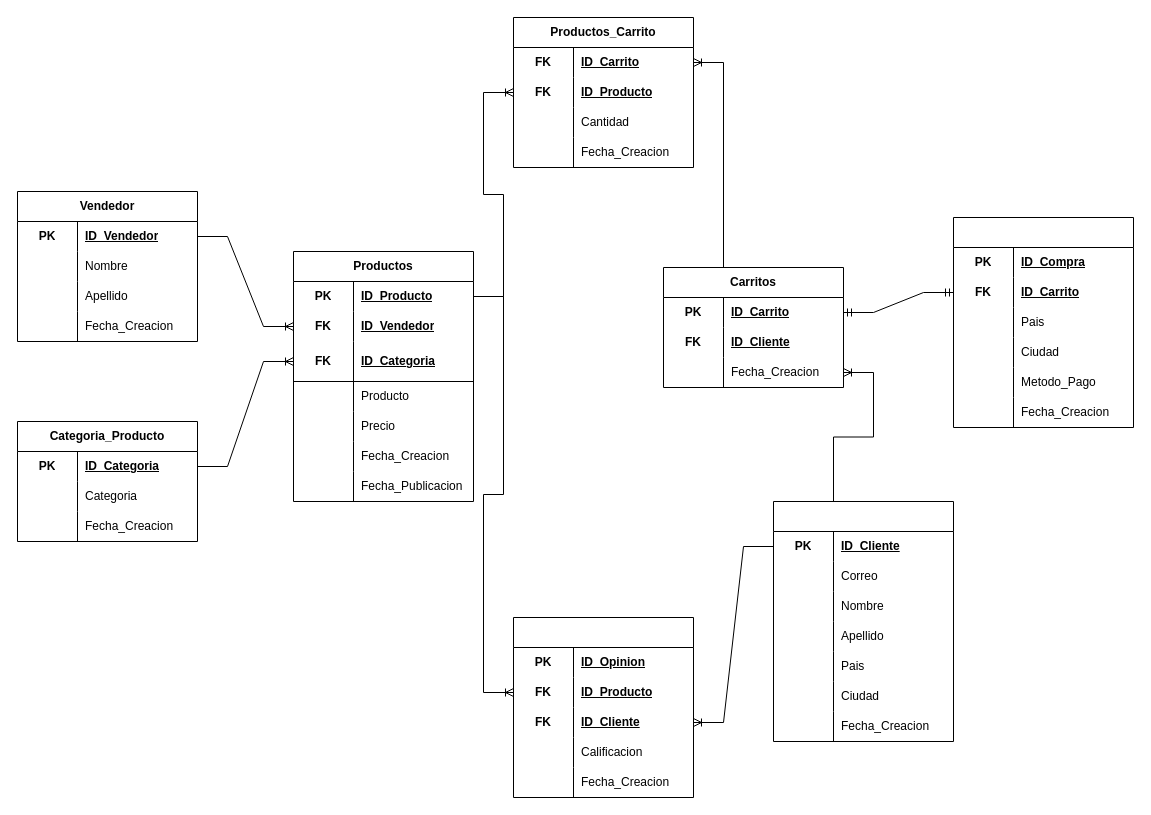
Image size: 1151x815. Some labels were removed from this diagram. Each missing label, with the box of its shape:
Clientes: (772, 500, 954, 742)
Compras: (952, 216, 1134, 428)
Opiniones: (512, 616, 694, 798)
